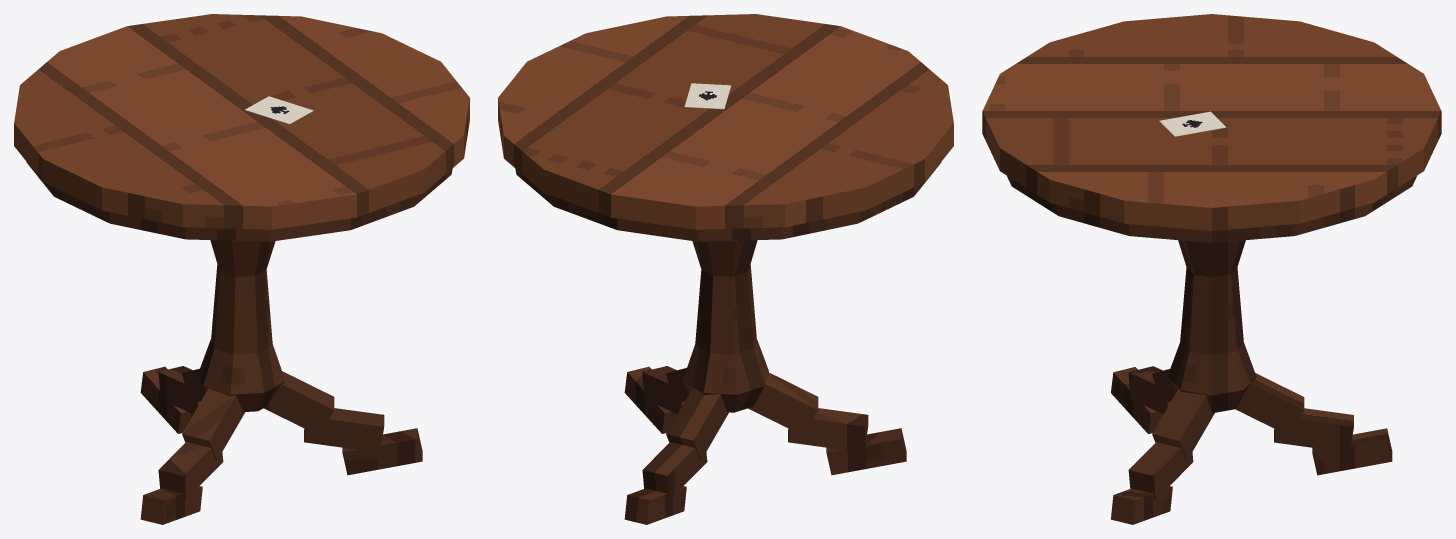
File: side_table.glb
The picture shows the model from 3 angles, left to right: view 1: azimuth 30°, elevation 25°; view 2: azimuth 150°, elevation 25°; view 3: azimuth 270°, elevation 25°; orthographic projection.
Visible parts, largest first — view 1: SideTable; view 2: SideTable; view 3: SideTable.
Part boxes in pixels (x1,y1,x2,y2): SideTable: [14, 14, 469, 524]; SideTable: [498, 14, 953, 524]; SideTable: [982, 14, 1441, 524].
Size of the model in its own units: 0.72 by 0.6227 by 0.72.
Materials: 5 (3 with a texture image).
